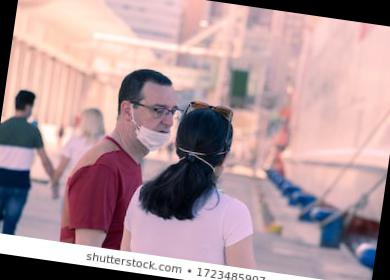mask_weared_incorrect: (129, 92, 180, 152)
